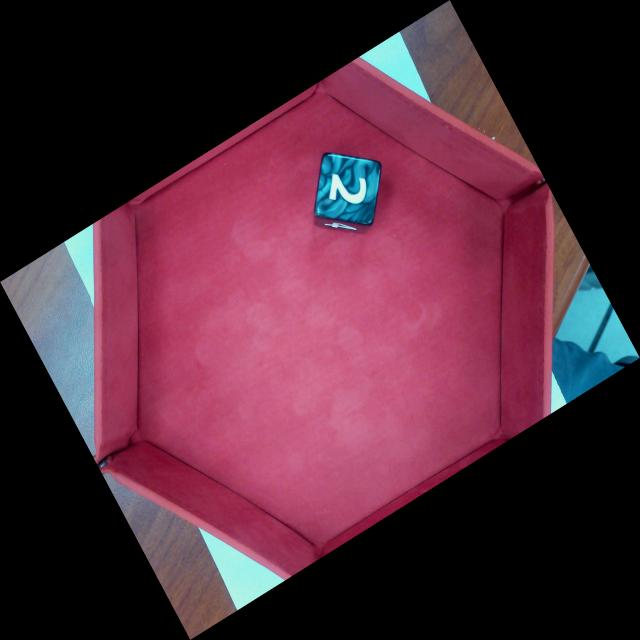dice: (310, 150, 383, 228)
